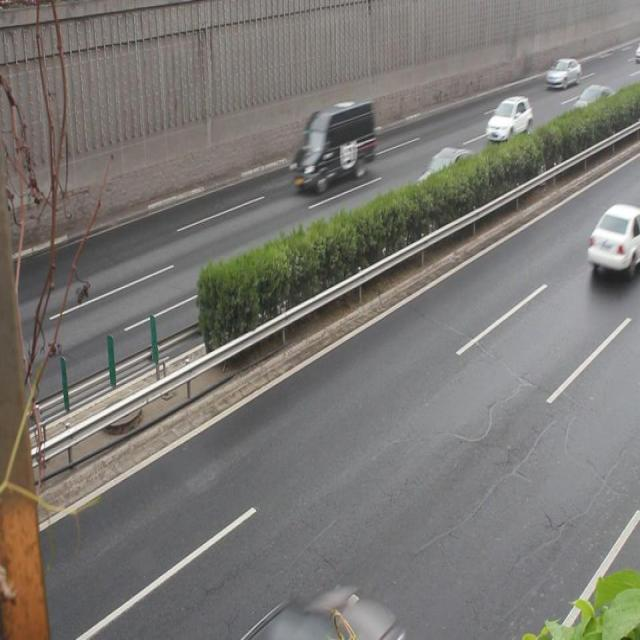car: (412, 146, 478, 214), (585, 202, 640, 278), (484, 95, 532, 146), (569, 84, 616, 134), (544, 56, 580, 90)
truck: (293, 102, 374, 191)
